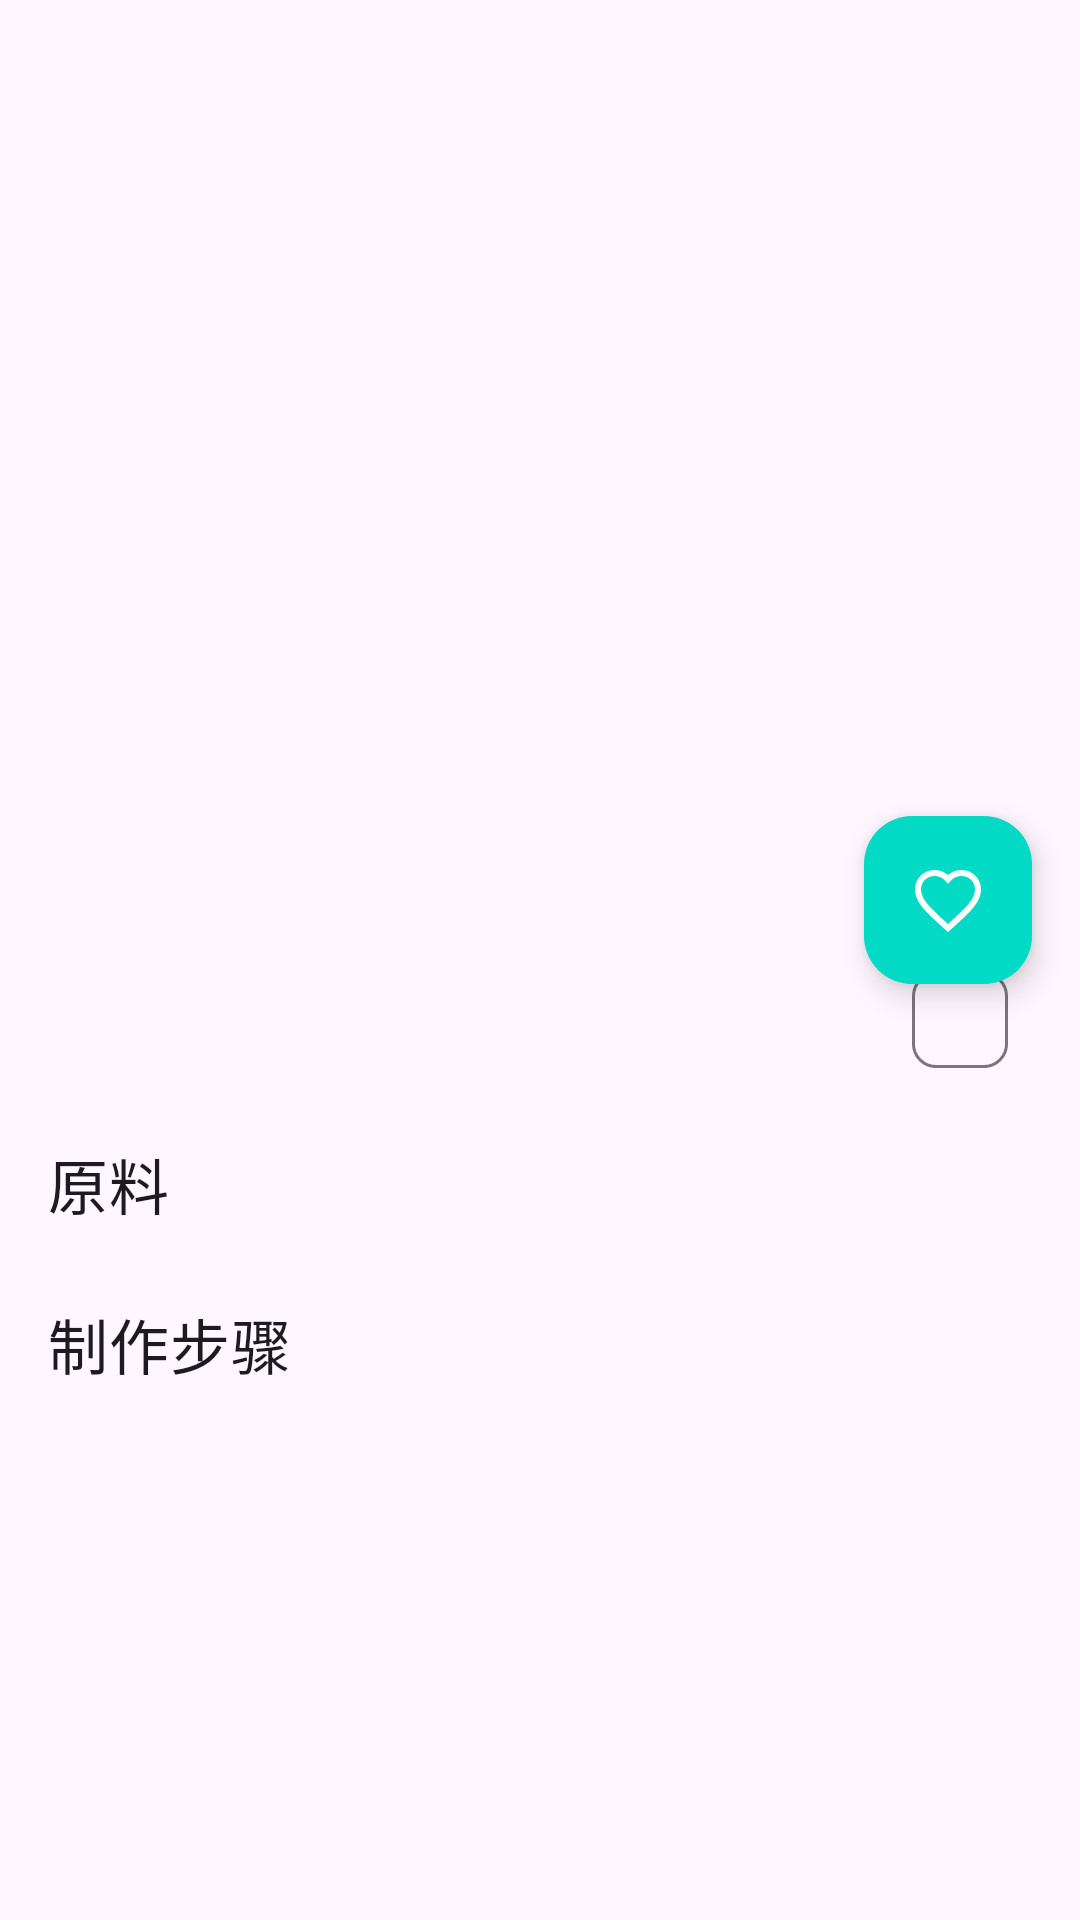

Locate icon controls on the screen. Image size 1080 × 1920, boxes as (x1, y1, x2, y2).
添加到收藏: (864, 816, 1032, 984)
